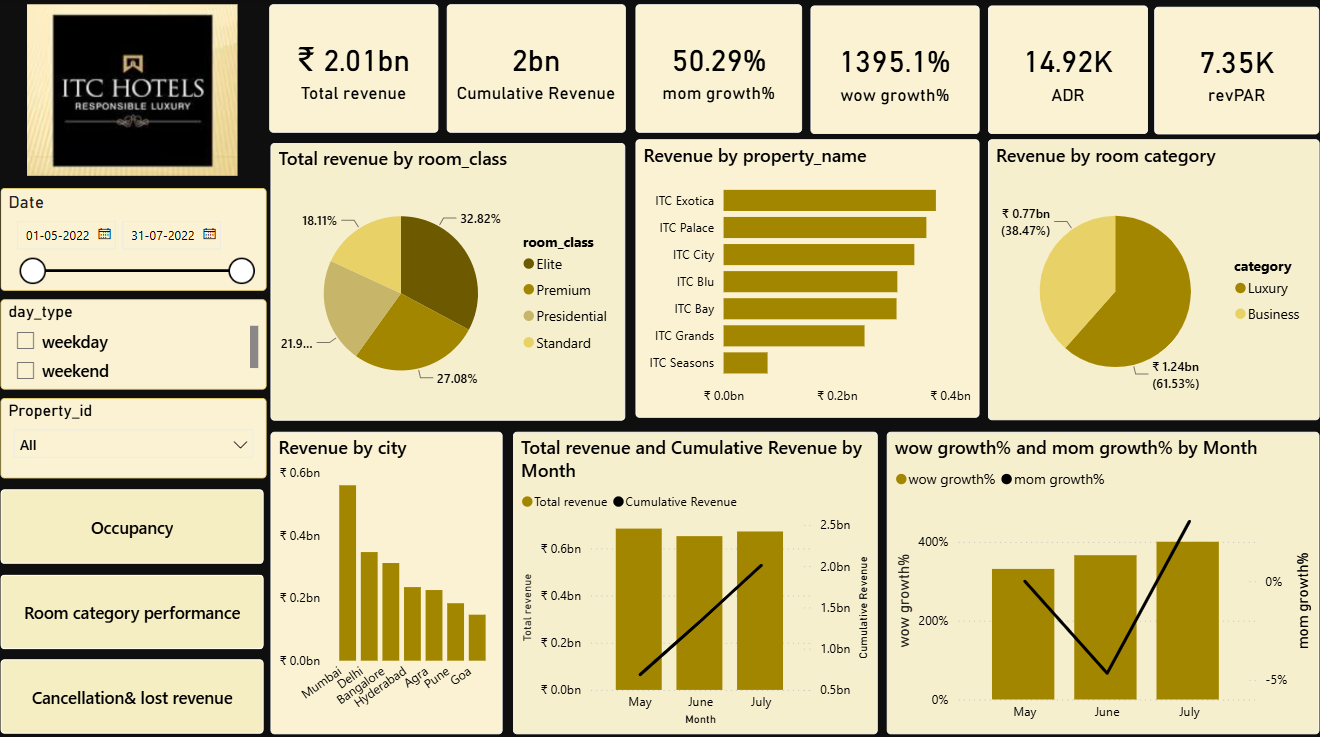

Layout of this report page (visuals, bound fields, positions):
{"tool":"powerbi","page":{"name":"Financial&Revenue Performance","canvas":[1280,720],"ordinal":0},"visuals":[{"type":"card","fields":{"Values":["z.rev"]},"box":[261.8,6,162.9,124.3],"z":0},{"type":"lineStackedColumnComboChart","fields":{"Category":["Calendar.Date.Variation.Date Hierarchy.Month"],"Y":["z.wow growth%"],"Y2":["z.mom growth%"]},"box":[857.8,418.6,417.4,292],"z":1000},{"type":"card","fields":{"Values":["z.Cumulative Revenue"]},"box":[433.1,6,172.5,124.3],"z":2000},{"type":"card","fields":{"Values":["z.mom growth%"]},"box":[615.3,6,160.5,124.3],"z":3000},{"type":"card","fields":{"Values":["z.week_over_week_growth%"]},"box":[784.2,7.2,162.9,124.3],"z":4000},{"type":"card","fields":{"Values":["z.ADR"]},"box":[955.5,7.2,154.4,124.3],"z":5000},{"type":"card","fields":{"Values":["z.revPAR"]},"box":[1116,8.4,159.3,123.1],"z":6000},{"type":"lineStackedColumnComboChart","fields":{"Category":["Calendar.Date.Variation.Date Hierarchy.Month"],"Y":["z.Total revenue"],"Y2":["z.Cumulative Revenue"]},"box":[497.1,418.6,352.3,292],"z":7000},{"type":"columnChart","title":"Revenue by city","fields":{"Category":["hotels.city"],"Y":["z.Total revenue"]},"box":[263,418.6,224.4,292],"z":8000},{"type":"barChart","title":"Revenue by property_name","fields":{"Y":["z.Total revenue"],"Category":["hotels.property_name"]},"box":[615.3,136.3,331.8,269],"z":9000},{"type":"slicer","title":"Date","fields":{"Values":["Calendar.Date"]},"box":[2.5,183.1,256.8,99.5],"z":10000},{"type":"pieChart","title":"Revenue by room category","fields":{"Category":["hotels.category"],"Y":["z.Total revenue"]},"box":[955.5,136.3,319.7,271.4],"z":11000},{"type":"image","box":[0,6,259.4,165.3],"z":12000},{"type":"slicer","title":"day_type","fields":{"Values":["Calendar.day_type"]},"box":[2.4,290.8,257,86.9],"z":13000},{"type":"pieChart","fields":{"Y":["z.Total revenue"],"Category":["rooms.room_class"]},"box":[263,139.9,342.6,267.8],"z":14000},{"type":"pageNavigator","box":[2.4,474.1,254.6,236.5],"z":15000},{"type":"slicer","title":"Property_id","fields":{"Values":["occupancy.property_id"]},"box":[2.5,385.8,256.8,77.4],"z":16000}]}

Visuals, with their boxes in screenshot pixels (x1, y1, x2, y2), scaled from the page's 1280x720 canvas onto the 1320x737 screenshot:
card - z.rev: x1=270, y1=6, x2=438, y2=133
lineStackedColumnComboChart - Calendar.Date.Variation.Date Hierarchy.Month x z.wow growth%: x1=885, y1=428, x2=1315, y2=727
card - z.Cumulative Revenue: x1=447, y1=6, x2=625, y2=133
card - z.mom growth%: x1=635, y1=6, x2=800, y2=133
card - z.week_over_week_growth%: x1=809, y1=7, x2=977, y2=135
card - z.ADR: x1=985, y1=7, x2=1145, y2=135
card - z.revPAR: x1=1151, y1=9, x2=1315, y2=135
lineStackedColumnComboChart - Calendar.Date.Variation.Date Hierarchy.Month x z.Total revenue: x1=513, y1=428, x2=876, y2=727
"Revenue by city" columnChart: x1=271, y1=428, x2=503, y2=727
"Revenue by property_name" barChart: x1=635, y1=140, x2=977, y2=415
"Date" slicer: x1=3, y1=187, x2=267, y2=289
"Revenue by room category" pieChart: x1=985, y1=140, x2=1315, y2=417
image: x1=0, y1=6, x2=268, y2=175
"day_type" slicer: x1=2, y1=298, x2=268, y2=387
pieChart - z.Total revenue x rooms.room_class: x1=271, y1=143, x2=625, y2=417
pageNavigator: x1=2, y1=485, x2=265, y2=727
"Property_id" slicer: x1=3, y1=395, x2=267, y2=474
